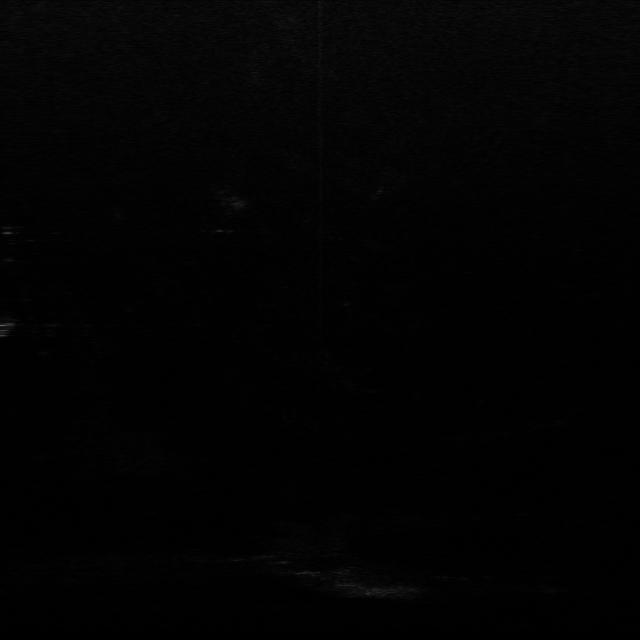rov: (0, 319, 19, 337)
